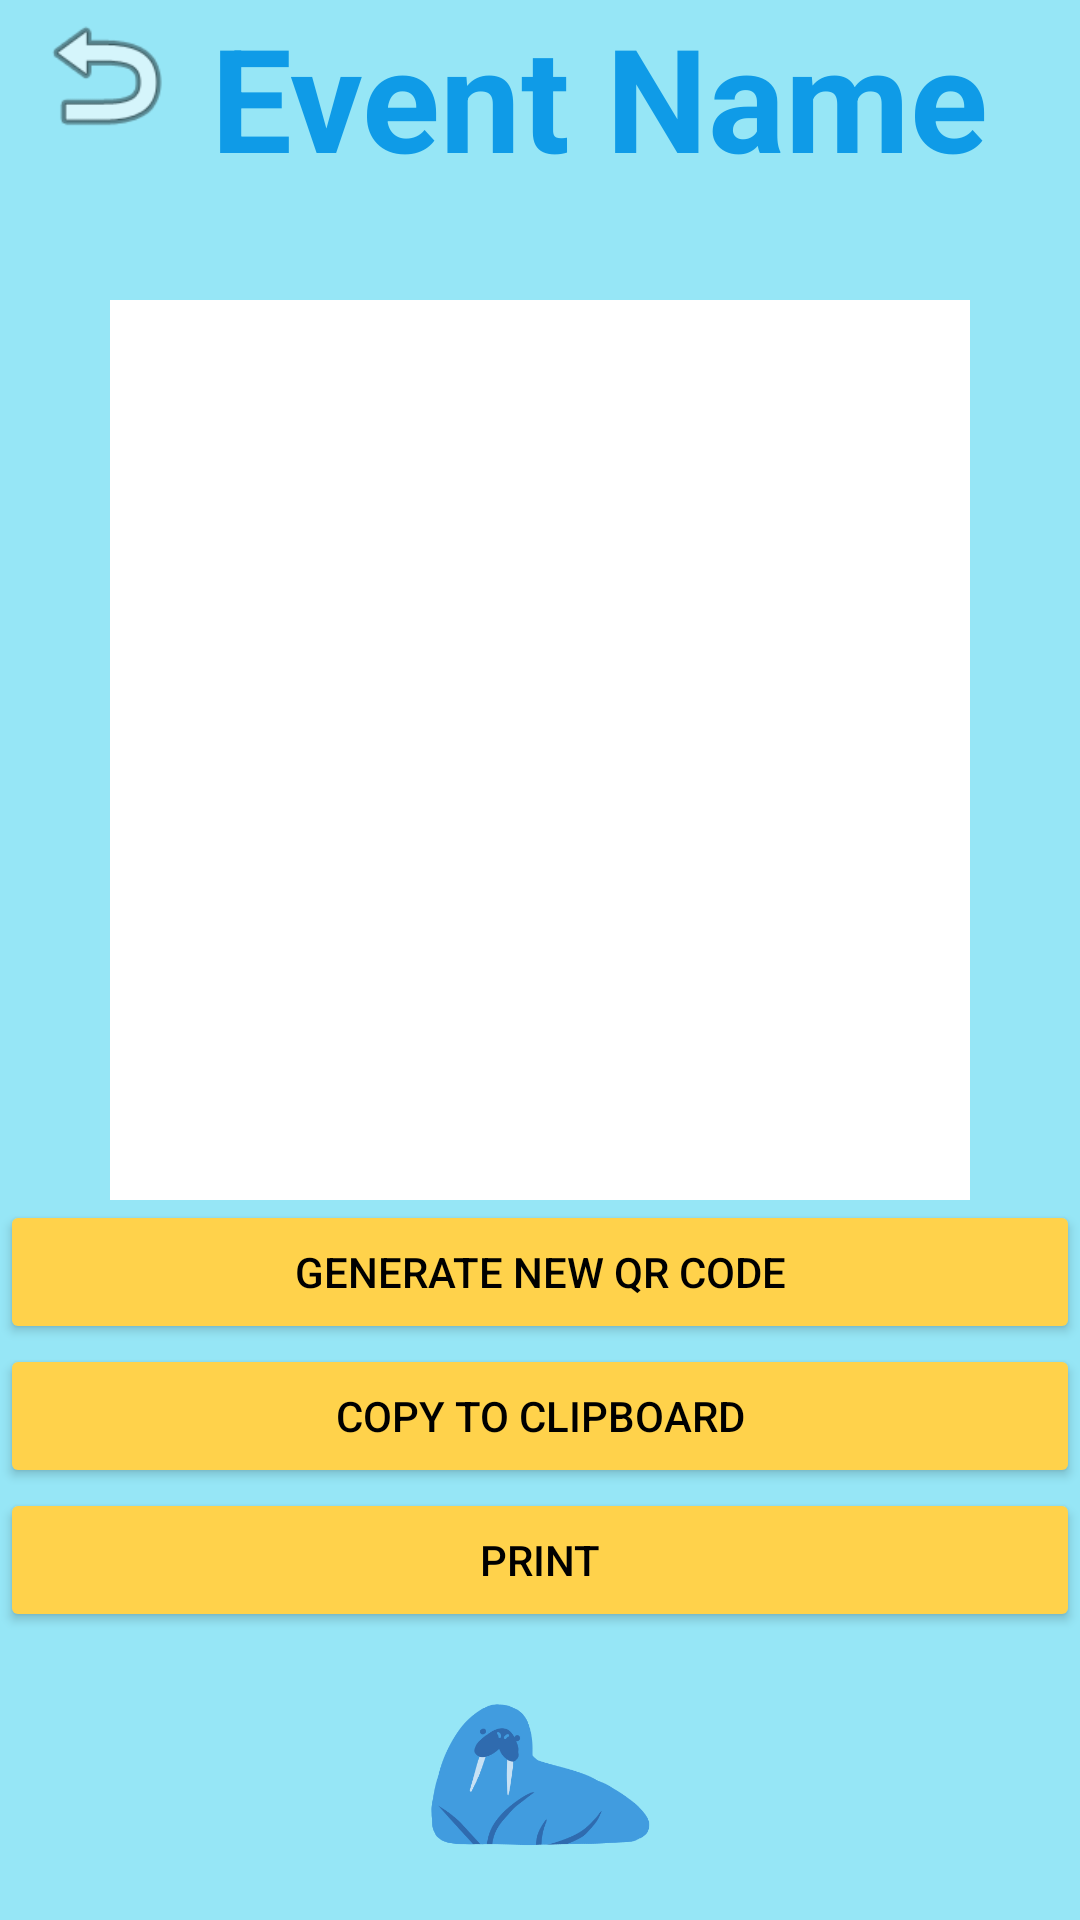

Icons on this 1080x1920 Android screen, each with its box as bbox=(x1, y1, x2, y2):
revert: bbox=(53, 27, 162, 125)
